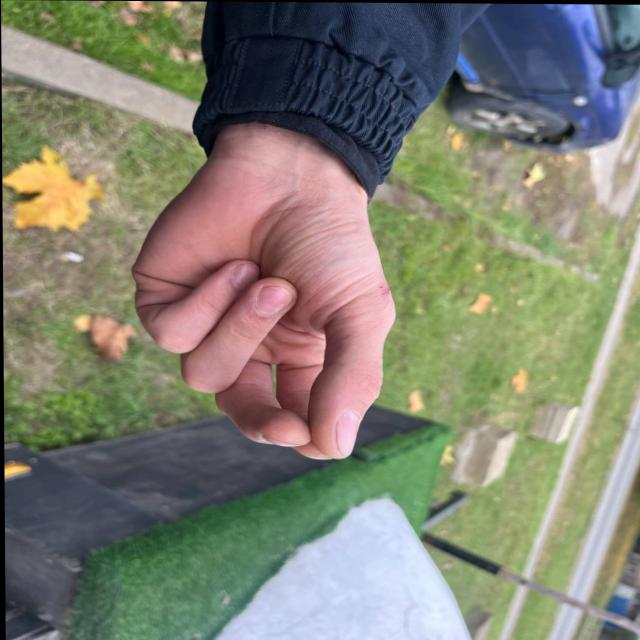ch: (113, 147, 421, 467)
